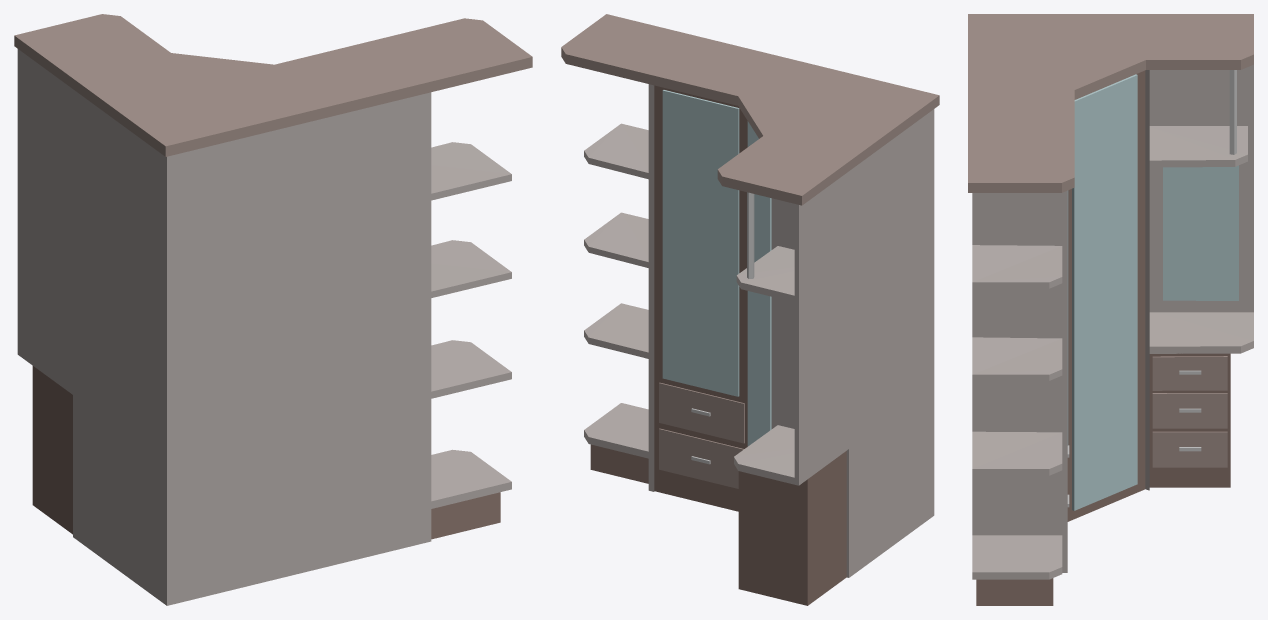
File: corner_cabinet.glb
3 renders of one model, left to right at view 1: azimuth 30°, elevation 25°; view 2: azimuth 150°, elevation 25°; view 3: azimuth 270°, elevation 25°, orthographic. The views are drawn at different scales.
Visible parts, largest first — view 1: furniture_040; view 2: furniture_040; view 3: furniture_040.
Part boxes in pixels (x1,y1,x2,y2): furniture_040: (14,14,532,605); furniture_040: (561,14,939,605); furniture_040: (968,14,1253,605).
Size of the model in its own units: 2.05 by 2.46 by 1.46.
